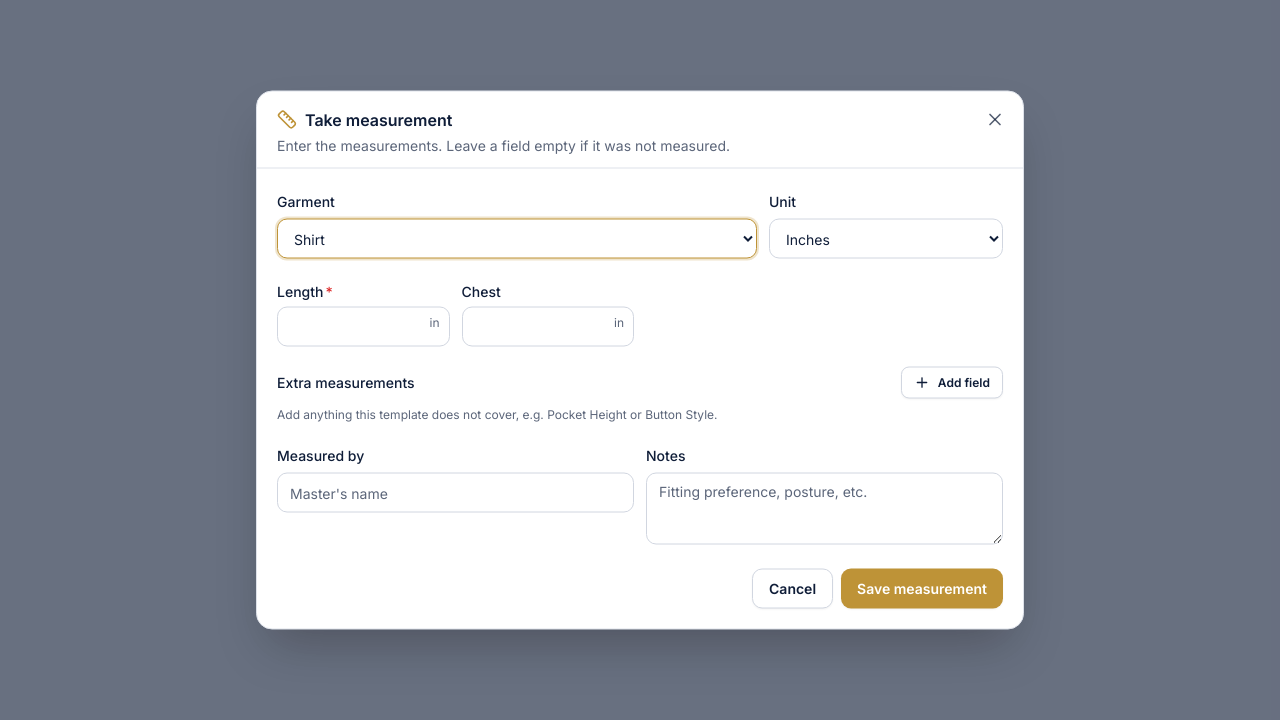
Test case: MeasurementFormDialog › rejects values that are not numbers or out of range
Type "30" into the field labelled "Length*" at (363, 326), box [277,306,450,346]
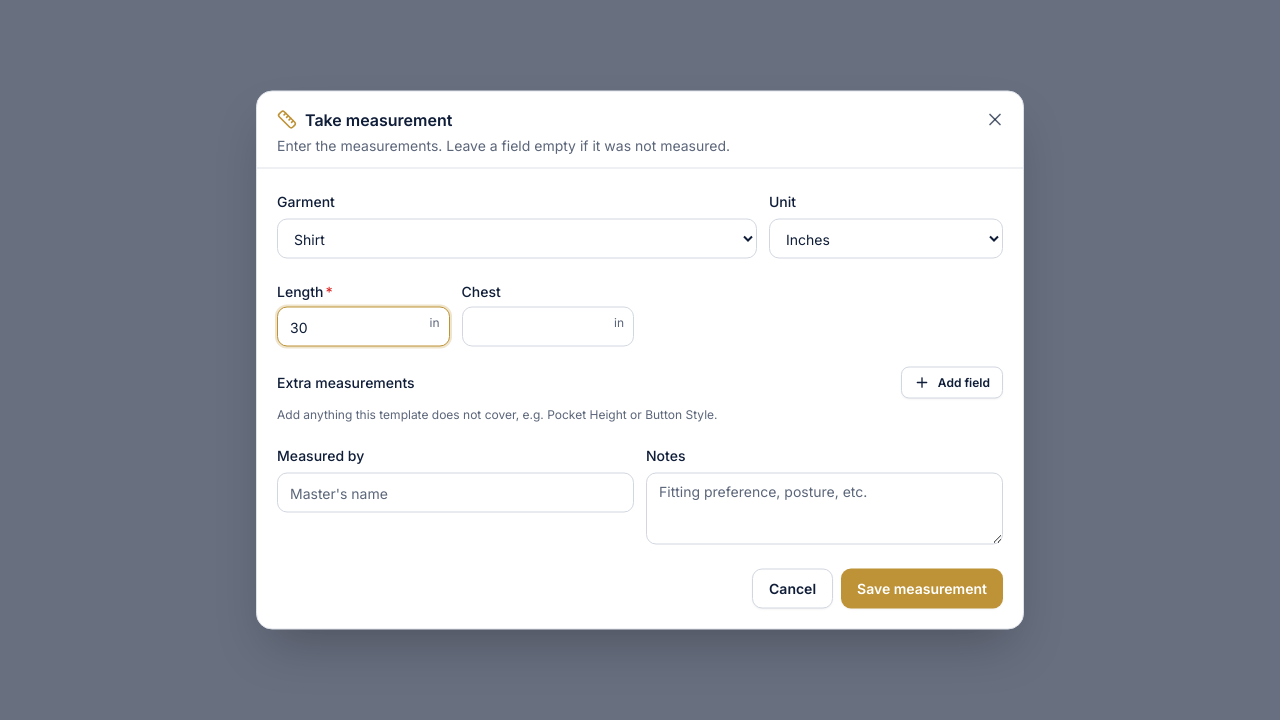
Type "abc" into the field labelled "Chest" at (548, 326), box [462,306,634,346]
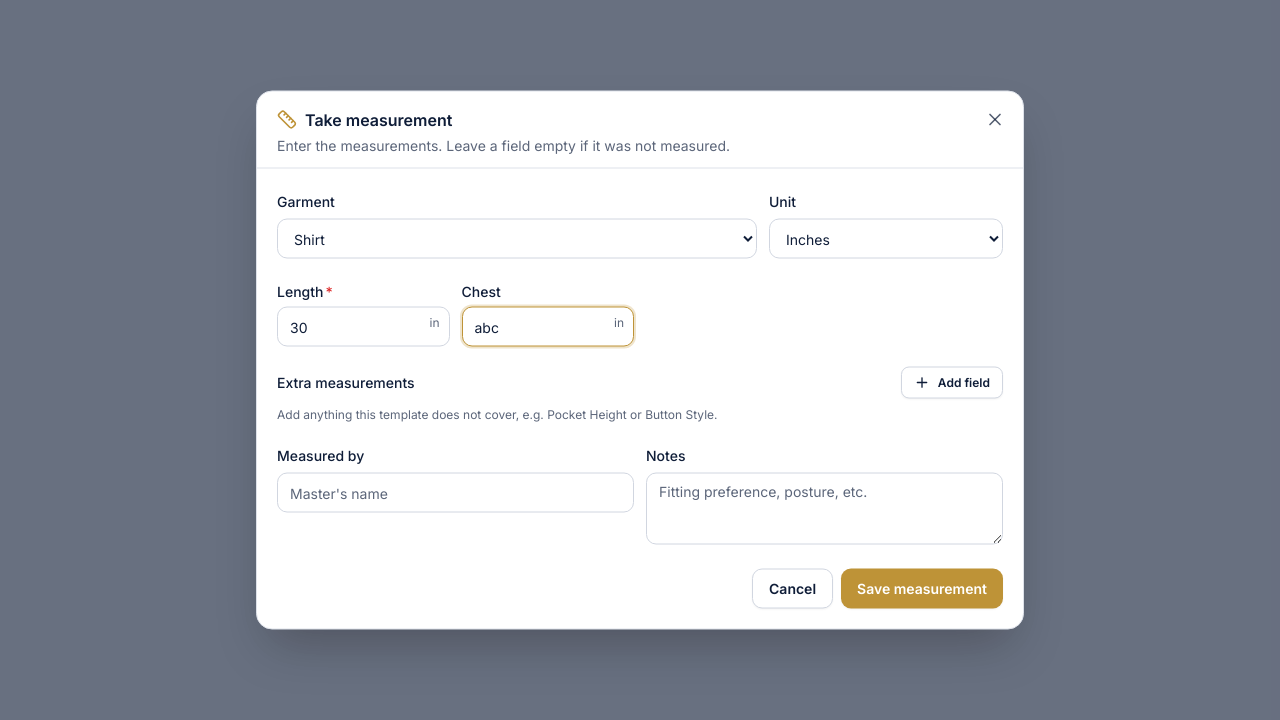
Click the button "Save measurement" at (922, 588), box [841,568,1003,608]
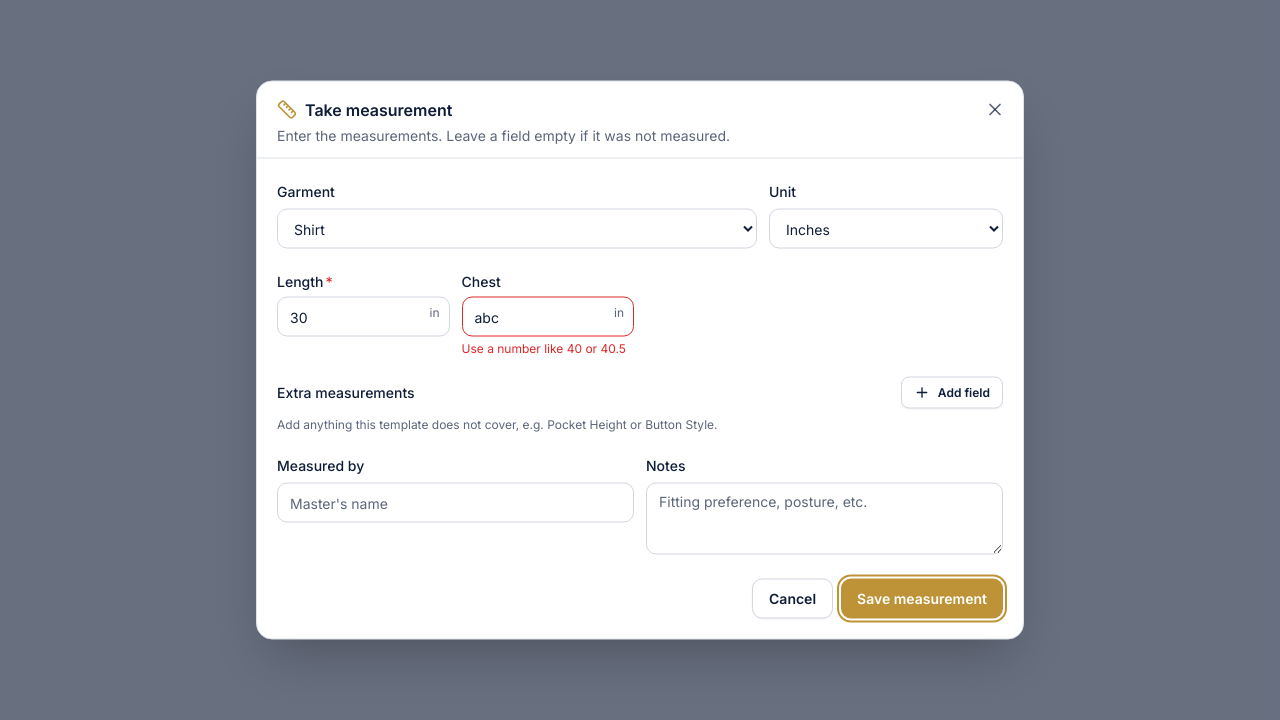
Now the text "Use a number like 40 or 40.5" is shown, box [462,340,634,356]
Replace the text in the field labelled "Chest" with "500" at (548, 316), box [462,296,634,336]
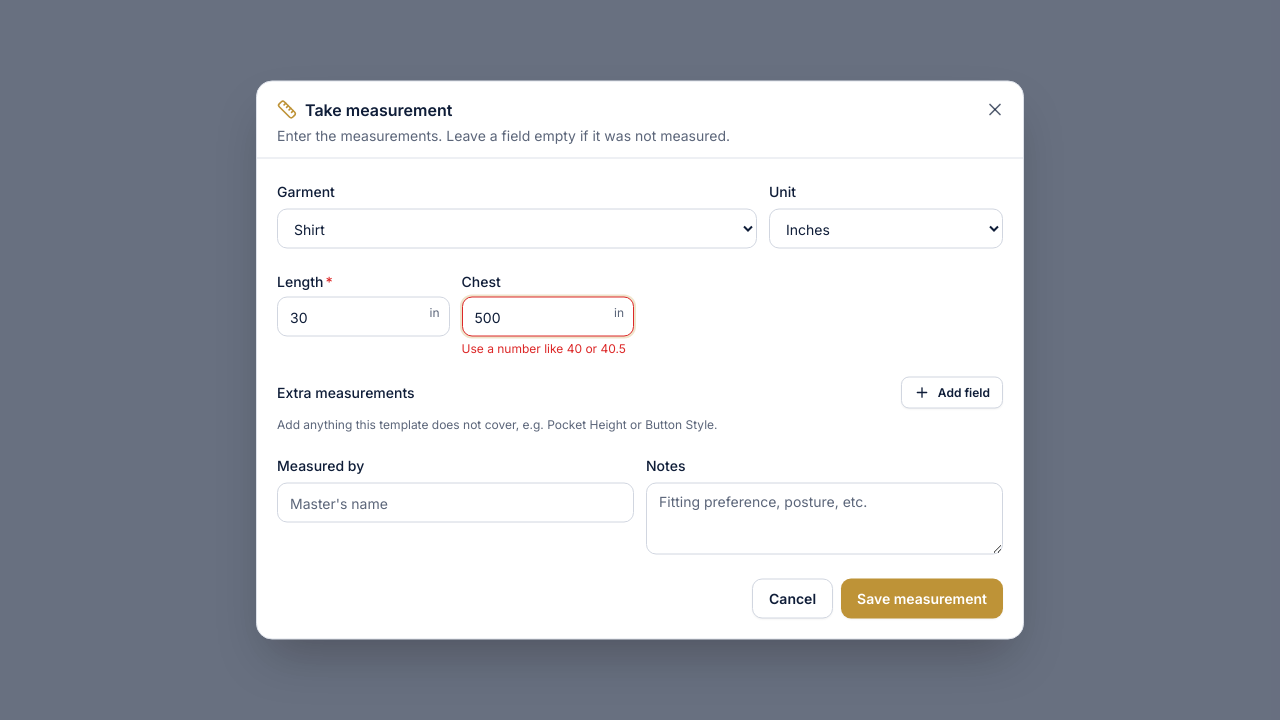
Click the button "Save measurement" at (922, 598), box [841,578,1003,618]
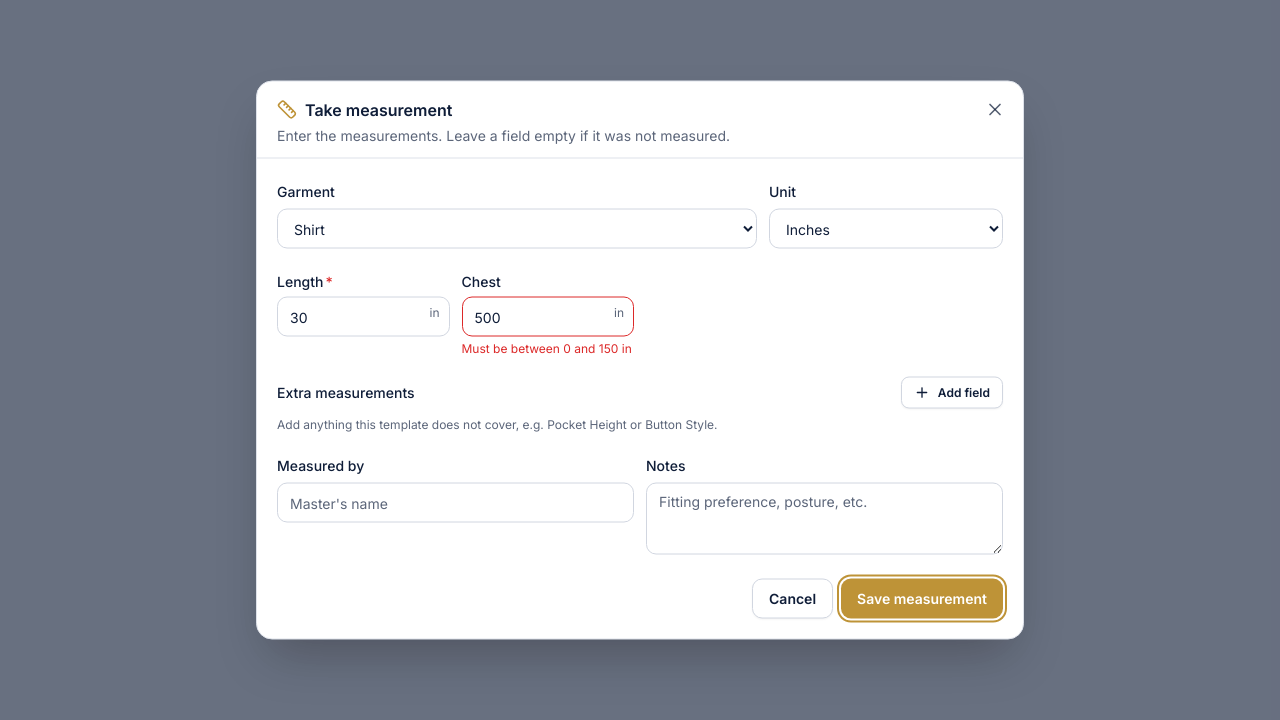
Now the text "Must be between 0 and 150 in" is shown, box [462,340,634,356]
